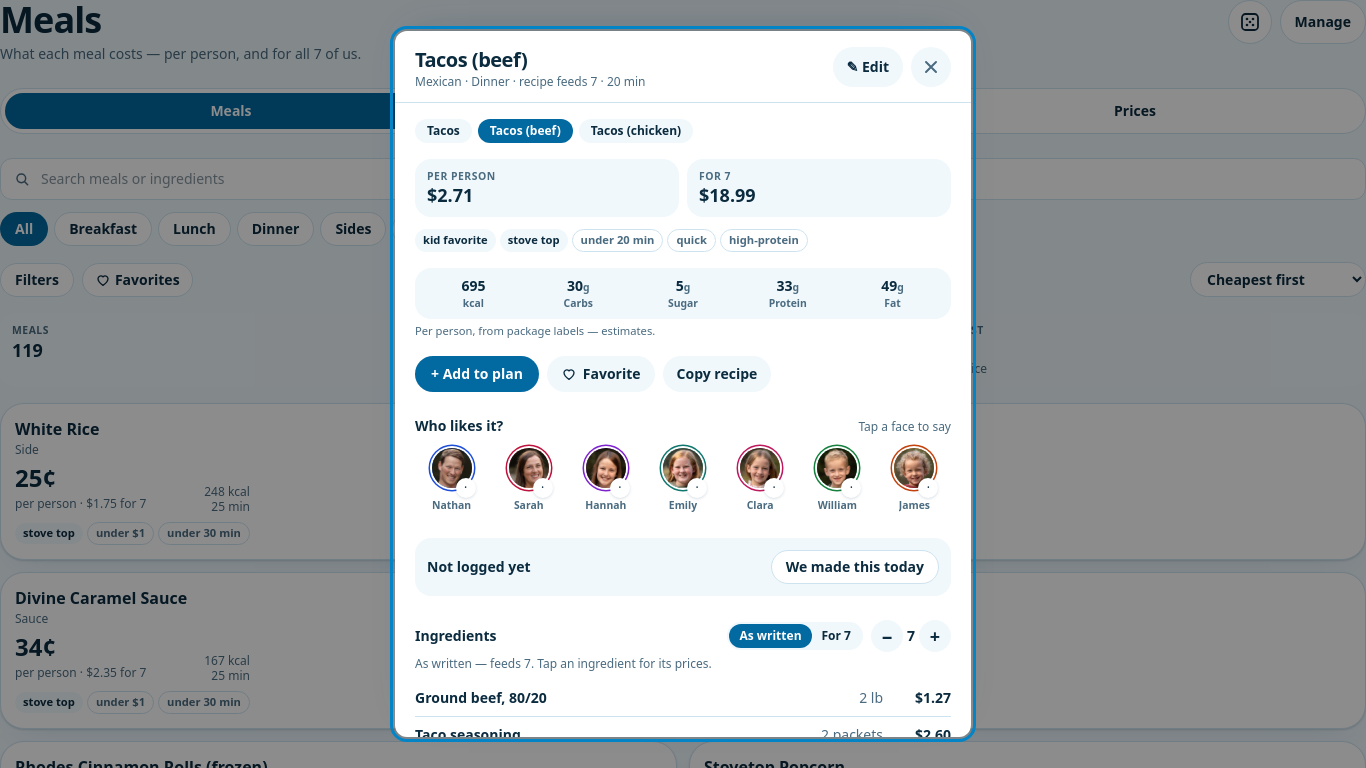
Test: a meal's sheet › switches between versions
The image size is (1366, 768).
Click the tab "Tacos (chicken)": click(636, 131) x1=579 y1=119 x2=693 y2=143
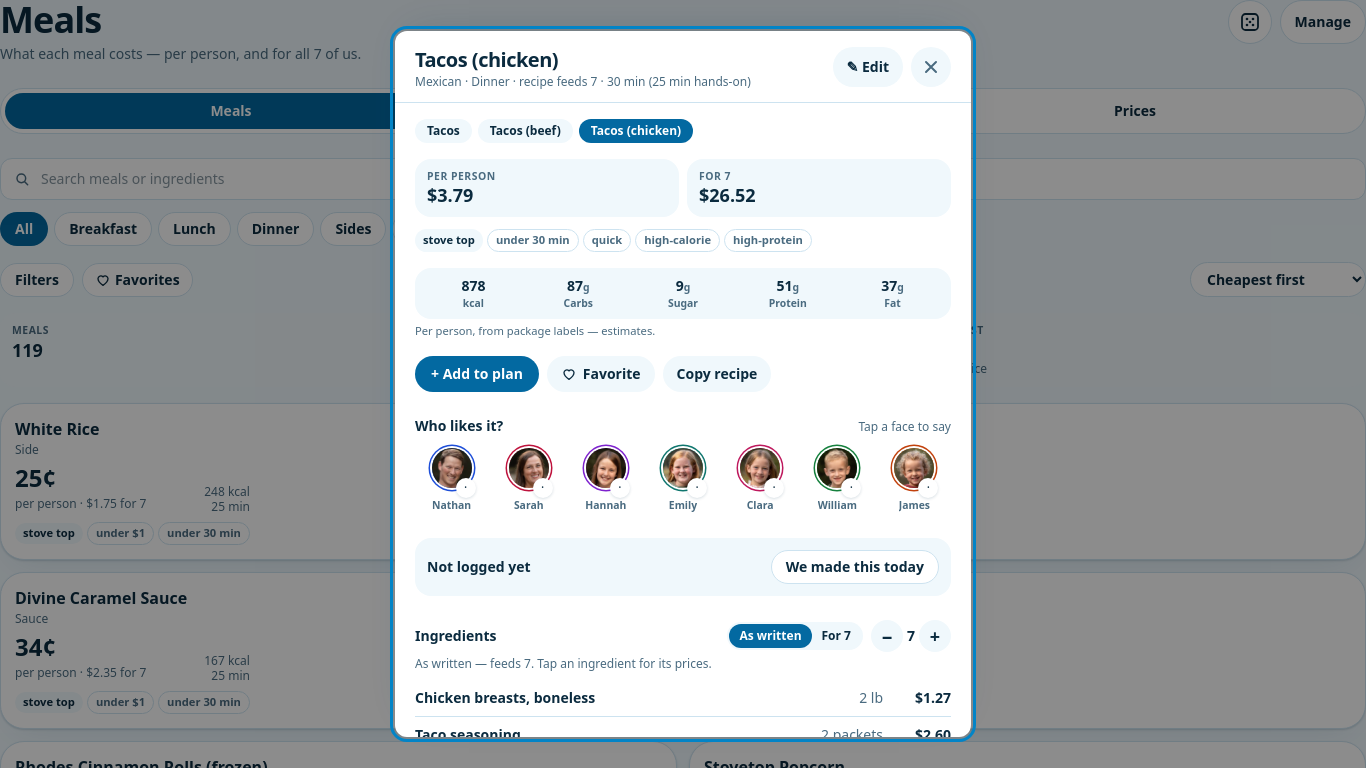
Result: the heading "Tacos (chicken)" is shown at x1=415 y1=46 x2=558 y2=73
